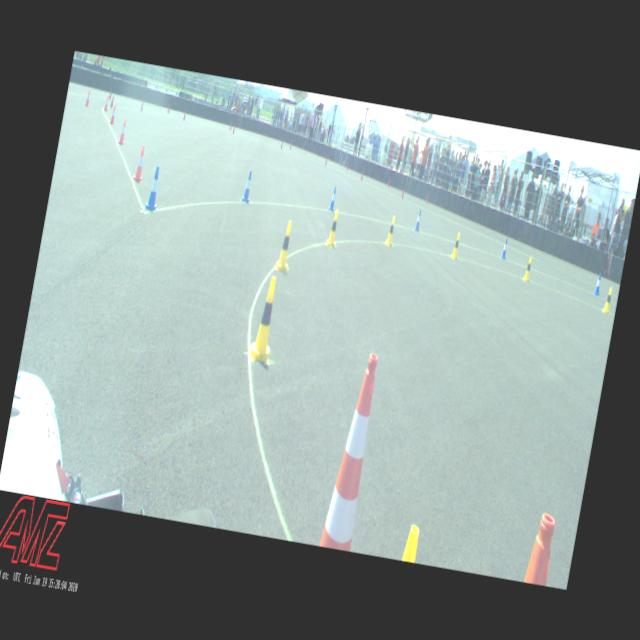blue_cone: (144, 164, 163, 212), (240, 170, 254, 203), (328, 186, 338, 212), (499, 238, 509, 260), (592, 272, 602, 294), (413, 208, 422, 232)
large_orange_cone: (318, 349, 384, 552), (522, 510, 558, 586)
orange_cone: (132, 144, 148, 183), (116, 118, 128, 146), (109, 103, 118, 125), (103, 94, 110, 112), (84, 89, 91, 107)
yellow_cone: (246, 274, 284, 362), (273, 219, 297, 272), (401, 522, 420, 562), (324, 208, 342, 248), (383, 214, 398, 247), (450, 230, 462, 260), (602, 286, 614, 314), (522, 255, 533, 282)
